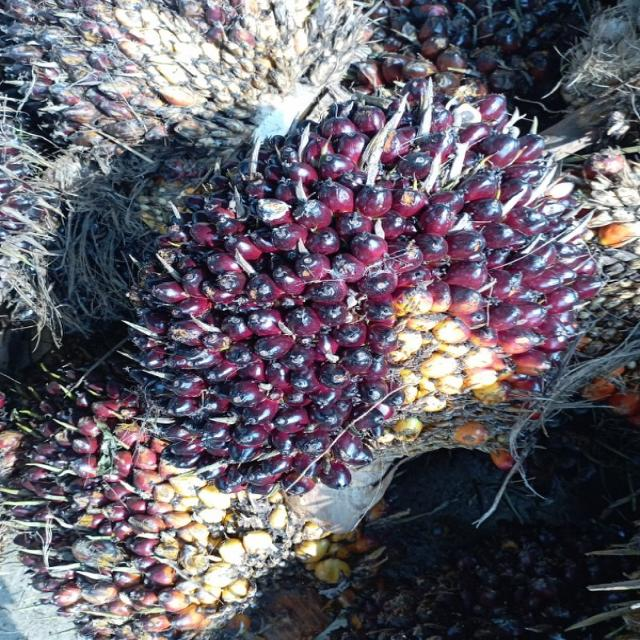fraksi 1: (106, 86, 640, 490), (10, 378, 335, 640)
